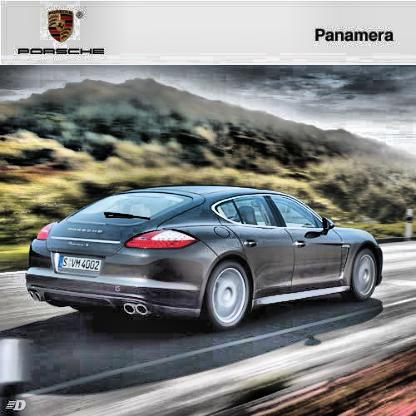Porsche Panamera Sedan 2012: (26, 187, 385, 330)
